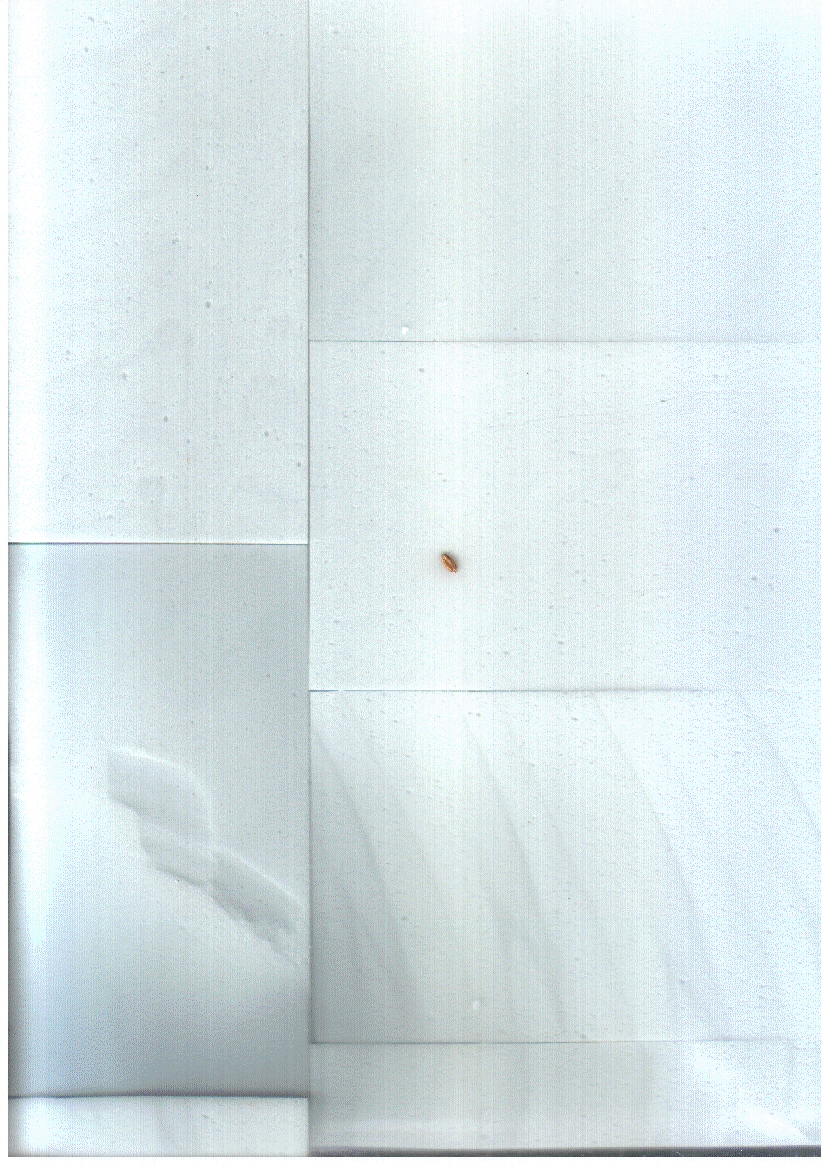grains: (429, 536, 468, 588)
